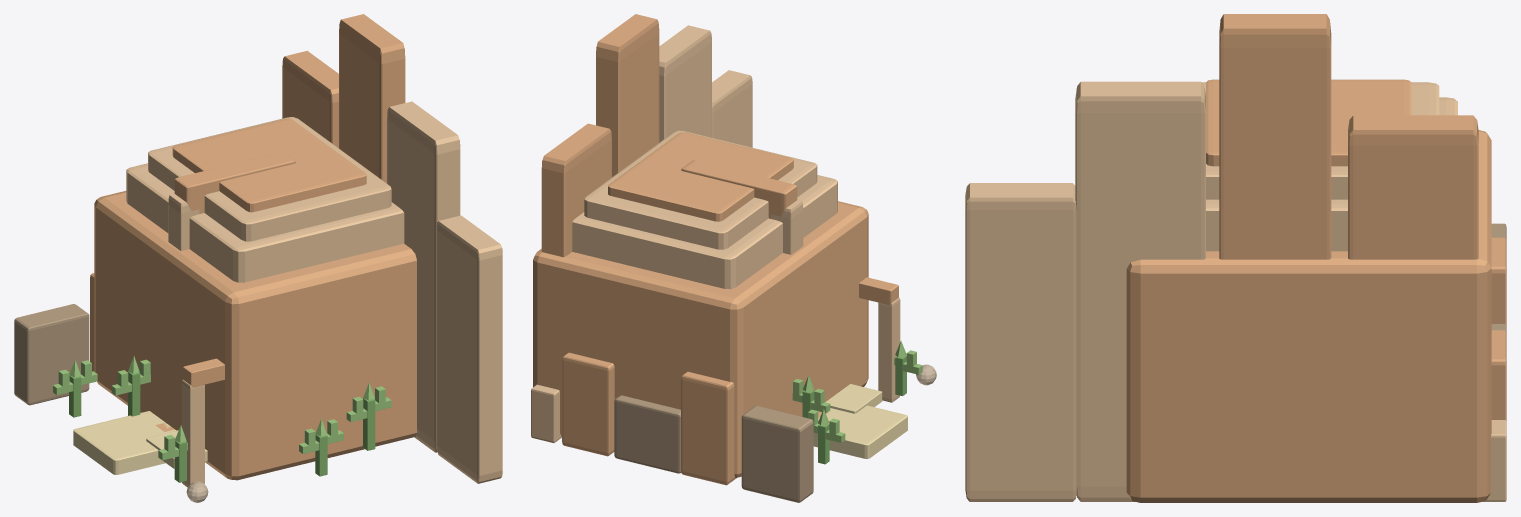
The model's file is desert.glb.
3 renders of one model, left to right at view 1: azimuth 30°, elevation 25°; view 2: azimuth 150°, elevation 25°; view 3: azimuth 270°, elevation 25°, orthographic. The views are drawn at different scales.
Parts seen in each view (by area): view 1: Cube.123, Cube.132, Cube.131, Cube.124, Cube.126, Cube.130, Cube.125, Cube.133, Cube.129, Cube.146, Cube.140, Cube.143 (+3 smaller); view 2: Cube.123, Cube.124, Cube.126, Cube.130, Cube.125, Cube.129, Cube.133, Cube.134, Cube.131, Cube.136, Cube.135, Cube.146 (+7 smaller); view 3: Cube.123, Cube.131, Cube.132, Cube.130, Cube.129, Cube.126, Cube.125, Cube.124, Cube.136, Cube.137, Cube.134.
Boxes of the visible parts, x1,y1,x2,y2 form: Cube.123: (94, 191, 417, 480); Cube.132: (436, 215, 502, 483); Cube.131: (387, 101, 460, 452); Cube.124: (126, 163, 404, 282); Cube.126: (172, 118, 366, 212); Cube.130: (339, 14, 405, 183); Cube.125: (148, 117, 391, 241); Cube.133: (14, 304, 89, 405); Cube.129: (282, 50, 338, 148); Cube.146: (73, 411, 176, 474); Cube.140: (174, 152, 295, 210); Cube.143: (182, 380, 204, 487); Cube.123: (533, 201, 868, 477); Cube.124: (572, 175, 837, 289); Cube.126: (608, 132, 793, 221); Cube.130: (596, 14, 659, 176); Cube.125: (584, 130, 817, 249); Cube.129: (541, 123, 611, 257); Cube.133: (741, 406, 813, 502); Cube.134: (681, 371, 736, 485); Cube.131: (659, 25, 711, 142); Cube.136: (562, 352, 614, 456); Cube.135: (614, 395, 681, 473); Cube.146: (813, 405, 907, 458); Cube.123: (1126, 130, 1491, 502); Cube.131: (1075, 81, 1205, 501); Cube.132: (965, 183, 1076, 501); Cube.130: (1219, 14, 1331, 259); Cube.129: (1348, 115, 1478, 259); Cube.126: (1206, 79, 1411, 166); Cube.125: (1201, 82, 1439, 199); Cube.124: (1206, 97, 1457, 251); Cube.136: (1491, 330, 1506, 421); Cube.137: (1482, 420, 1506, 501); Cube.134: (1491, 237, 1506, 326).
Size of the model in its own units: 11.9 by 14 by 14.5.
